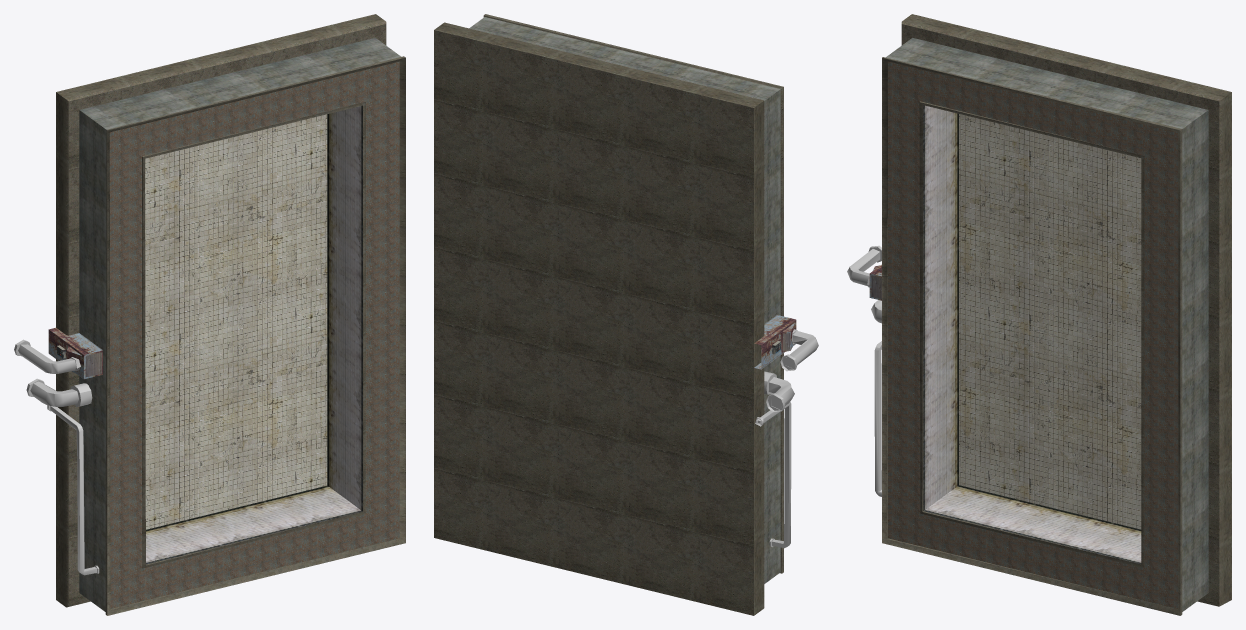
File: wasserbecken_LOD1.fbx
The picture shows the model from 3 angles, left to right: view 1: azimuth 30°, elevation 25°; view 2: azimuth 150°, elevation 25°; view 3: azimuth 330°, elevation 25°; orthographic projection.
Visible parts, largest first — view 1: MDL-Box011; view 2: MDL-Box011; view 3: MDL-Box011.
Part boxes in pixels (x1,y1,x2,y2): MDL-Box011: (14,14,405,615); MDL-Box011: (434,14,818,615); MDL-Box011: (847,14,1231,615).
Bounding box in the file's own units: 23.11 × 31.01 × 4.57.
